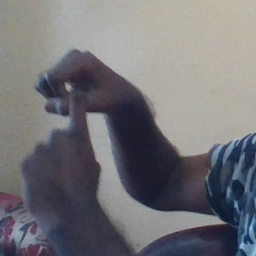Q: (15, 44, 125, 204)
